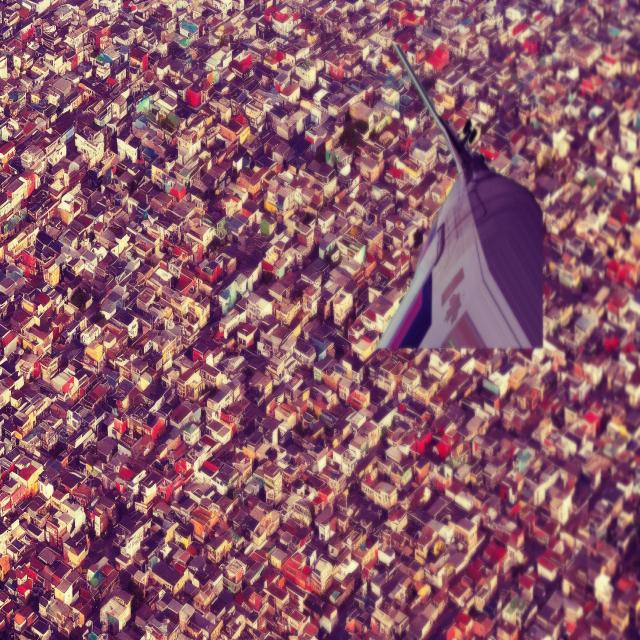airplane: (374, 39, 544, 358)
